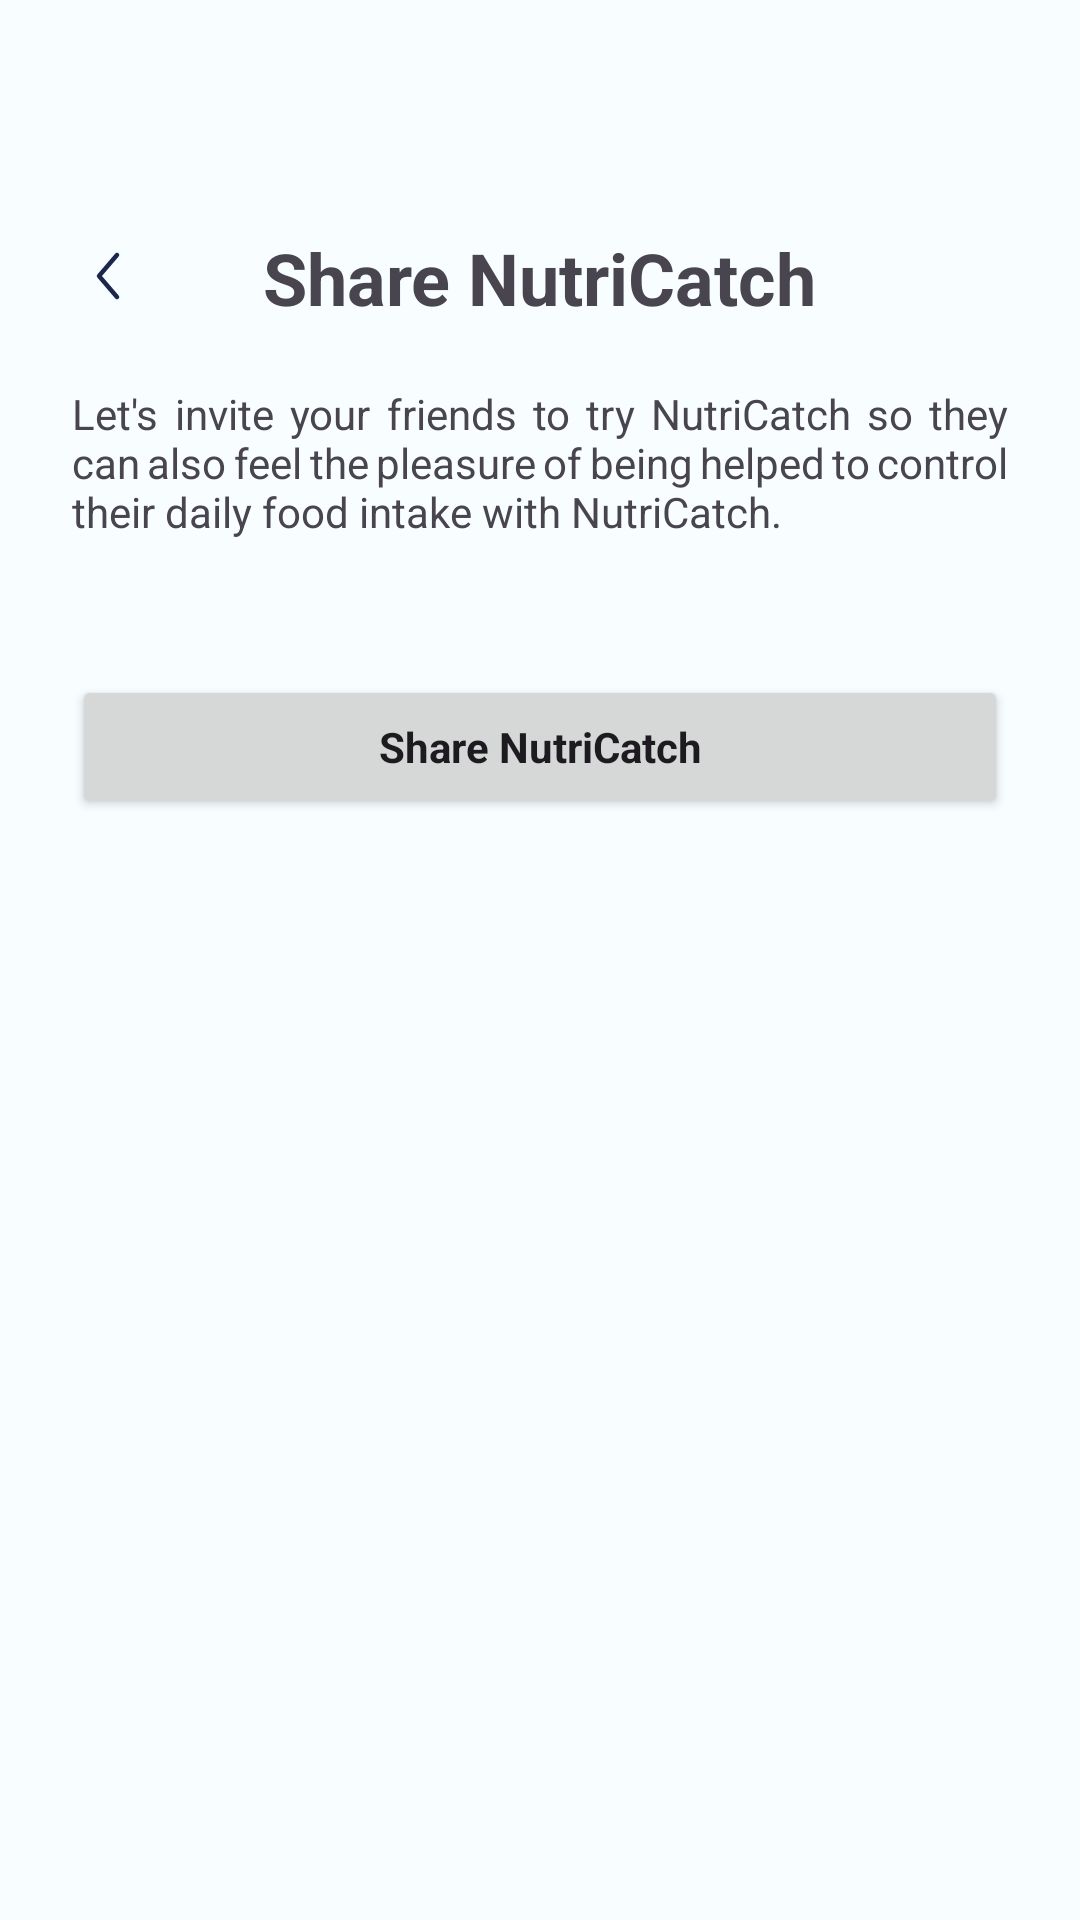

Where to tap for icons on this 1080×1920 app screen, as point (x, y):
Back Button: point (108, 276)
